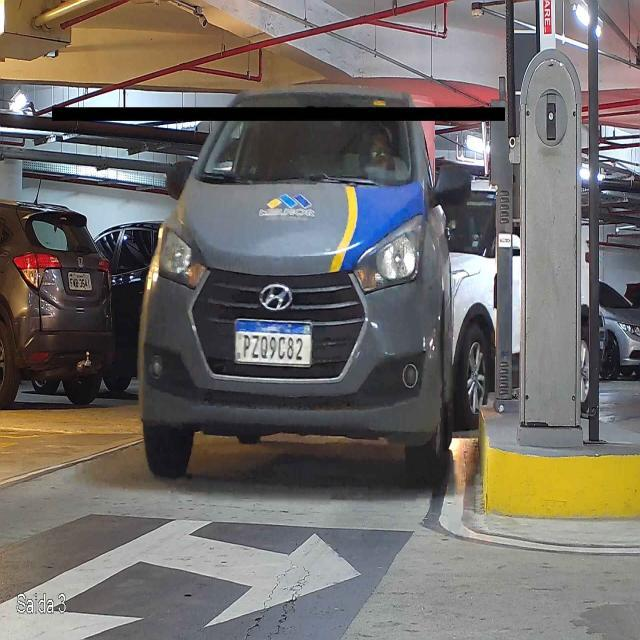mercosul_plate: (232, 318, 314, 368)
